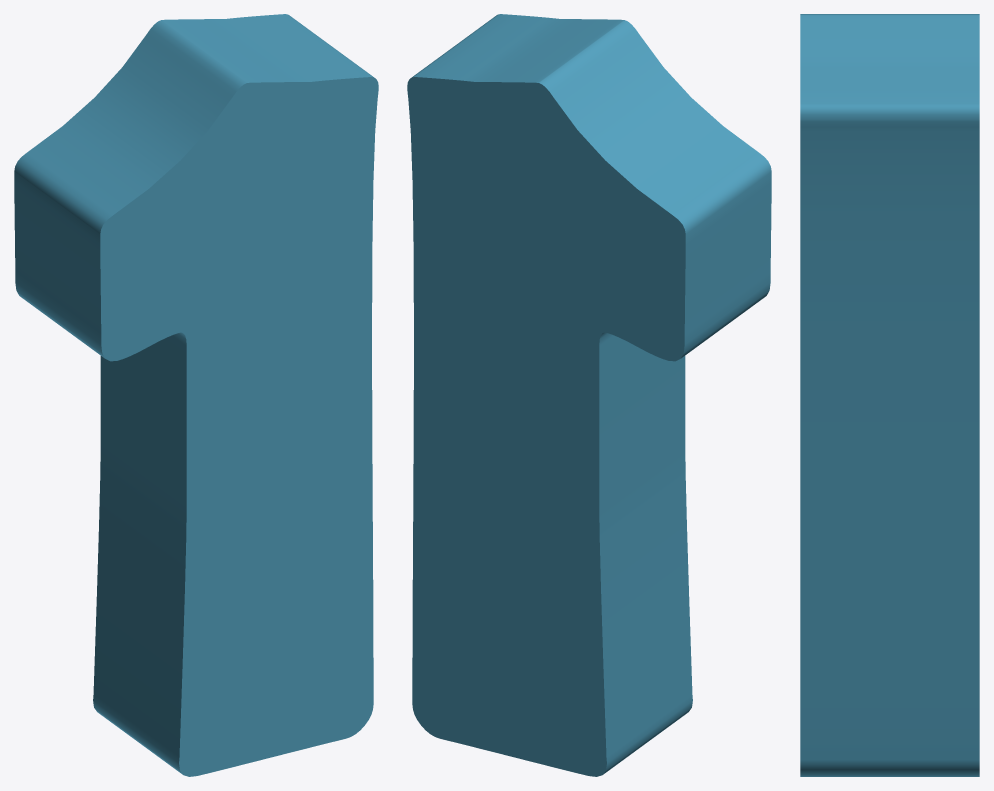
The model's file is numero_1.glb.
3 renders of one model, left to right at view 1: azimuth 30°, elevation 25°; view 2: azimuth 150°, elevation 25°; view 3: azimuth 270°, elevation 25°, orthographic. The views are drawn at different scales.
Parts seen in each view (by area): view 1: polySurface1; view 2: polySurface1; view 3: polySurface1.
Boxes of the visible parts, x1,y1,x2,y2 form: polySurface1: (14,14,378,776); polySurface1: (407,14,771,776); polySurface1: (800,14,979,776).
Bounding box in the file's own units: 0.0468 × 0.1092 × 0.025.
